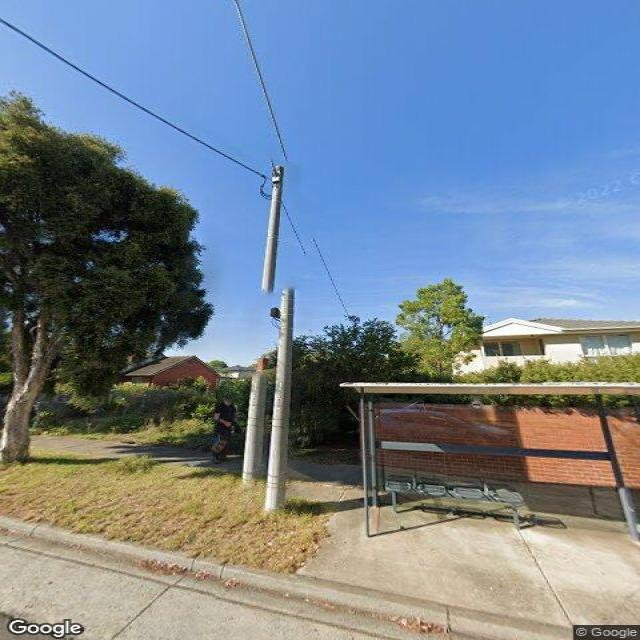concrete-pole: (259, 164, 295, 507)
